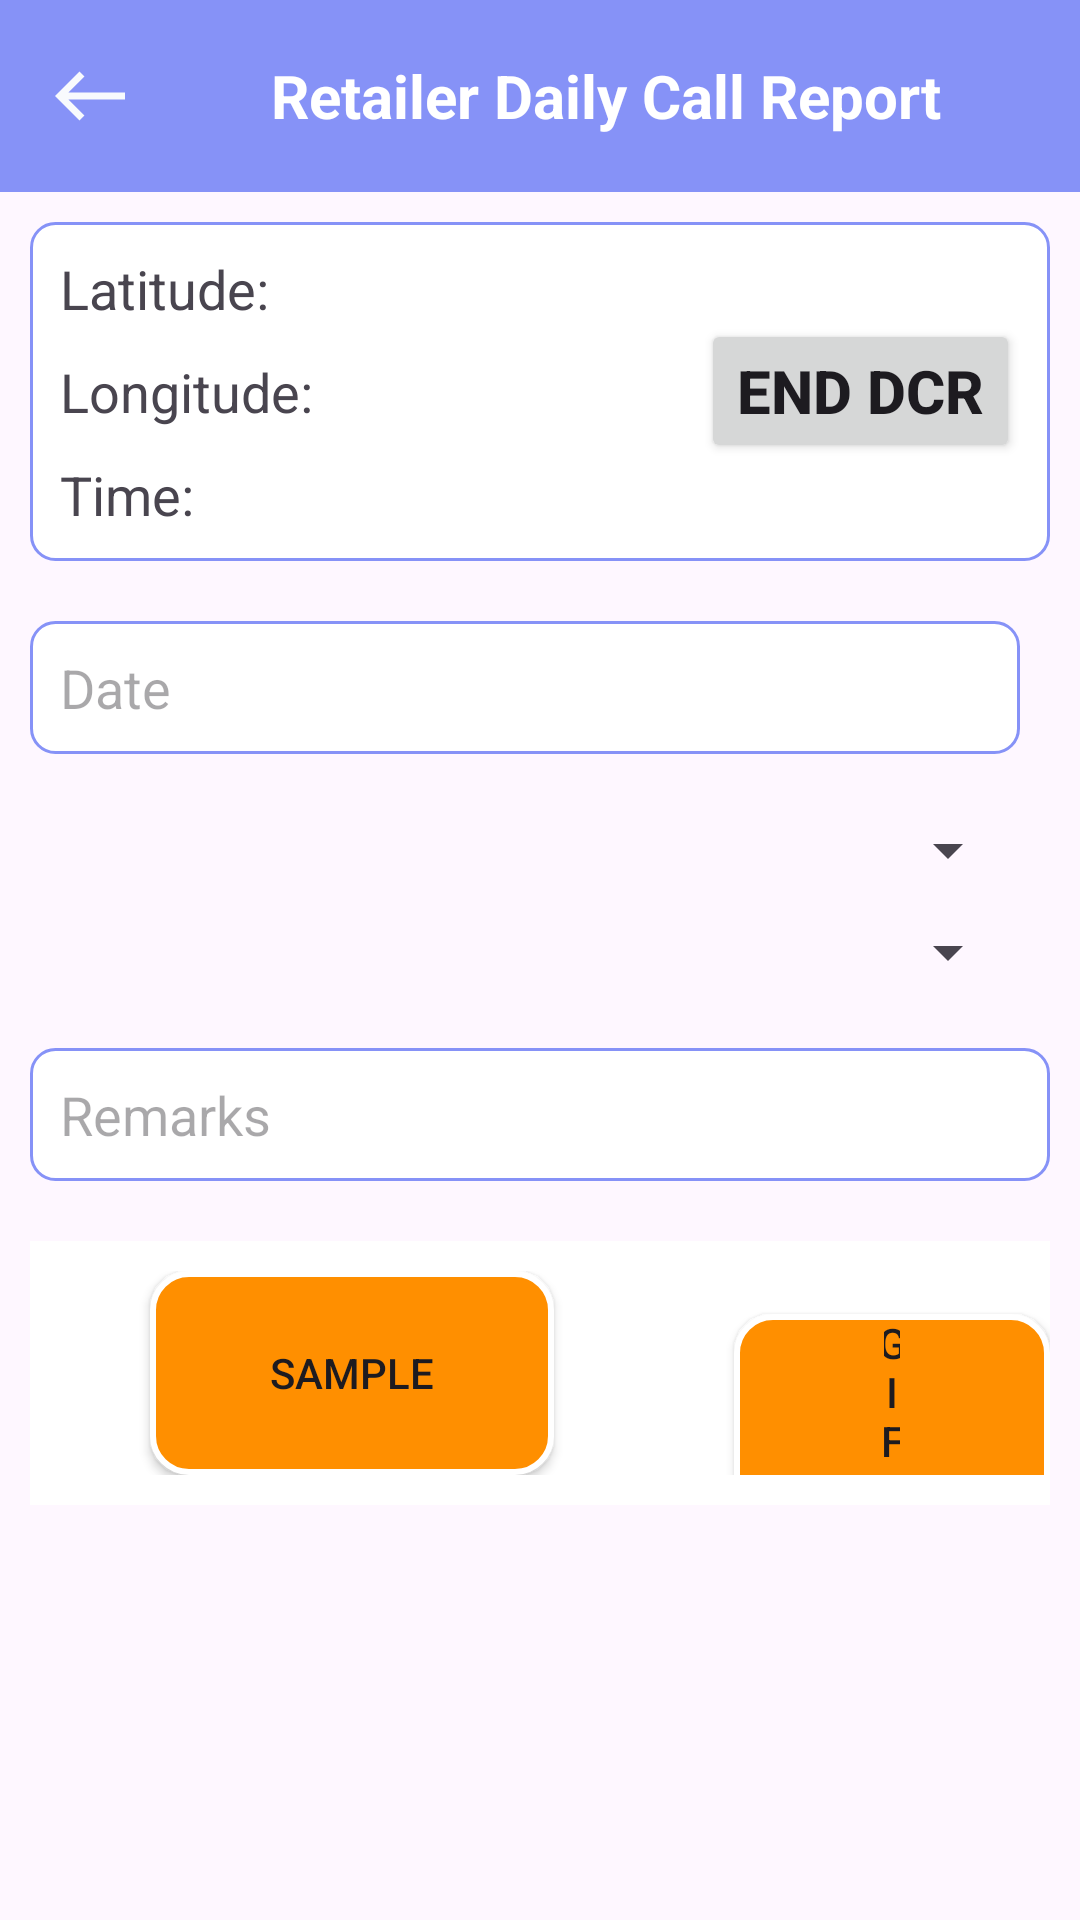

Where to tap for icons on this 1080px x 1920px app screen, as (x=x, y=y):
west: (x=90, y=96)
